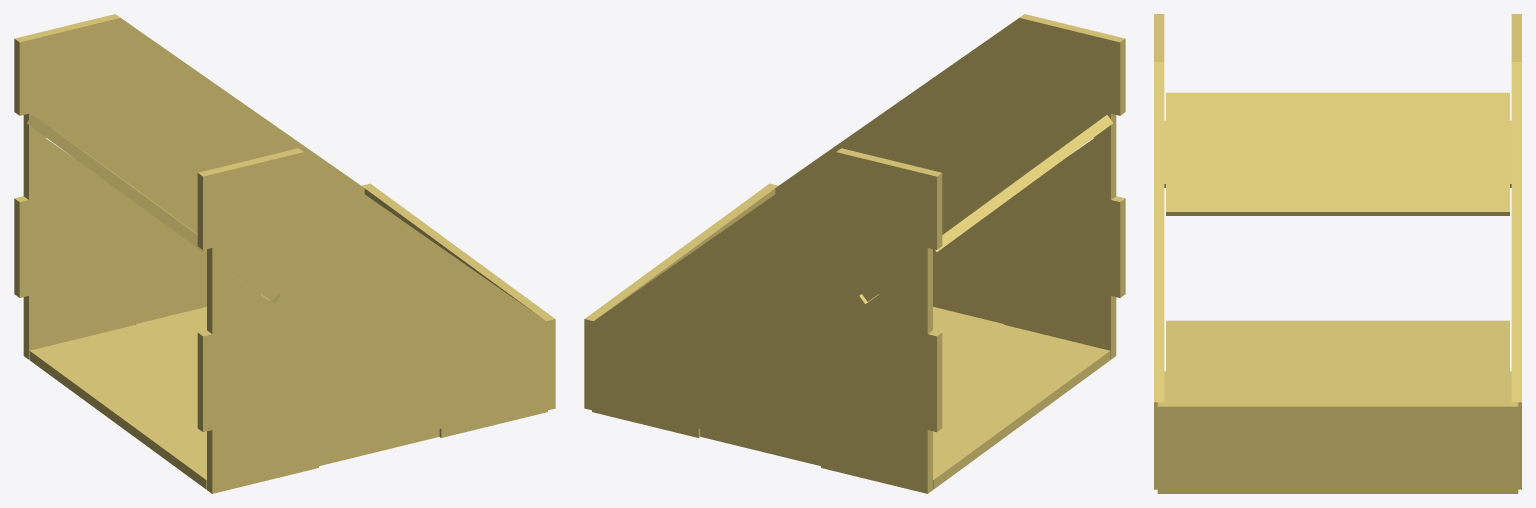
File: bucket.fbx
The picture shows the model from 3 angles, left to right: view 1: azimuth 30°, elevation 25°; view 2: azimuth 150°, elevation 25°; view 3: azimuth 270°, elevation 25°; orthographic projection. The views are drawn at different scales.
Visible parts, largest first — view 1: Conveyor (2); view 2: Conveyor (2); view 3: Conveyor (2).
Boxes of the visible parts, box(x1,y1,x2,y2) form: Conveyor (2): box(14, 14, 555, 493); Conveyor (2): box(584, 14, 1125, 493); Conveyor (2): box(1154, 14, 1521, 493).
Bounding box in the file's own units: 96.96 × 83.58 × 89.44.
